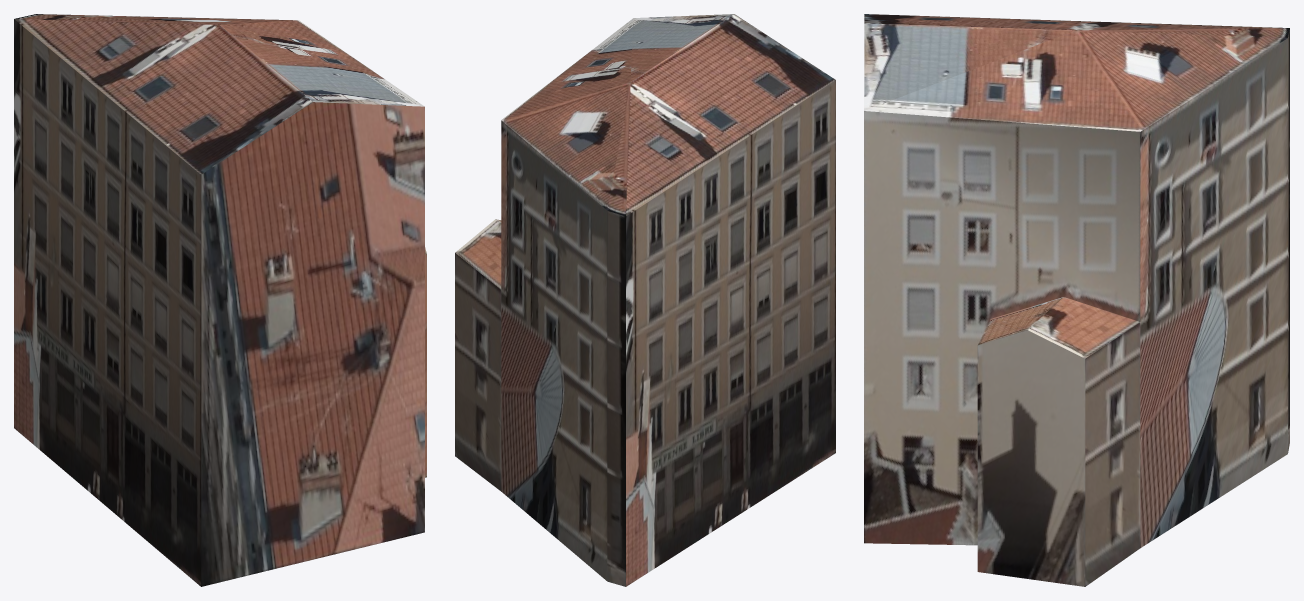
3 views of the same model, side by side, from view 1: azimuth 30°, elevation 25°; view 2: azimuth 150°, elevation 25°; view 3: azimuth 270°, elevation 25° (orthographic). The views are drawn at different scales.
Parts seen in each view (by area): view 1: Z_UP; view 2: Z_UP; view 3: Z_UP.
Boxes of the visible parts, box(x1,y1,x2,y2) form: Z_UP: box(14, 14, 426, 586); Z_UP: box(455, 14, 835, 586); Z_UP: box(864, 14, 1289, 586).
Bounding box in the file's own units: 16.38 × 22.97 × 19.08.
Materials: 2 (1 with a texture image).
